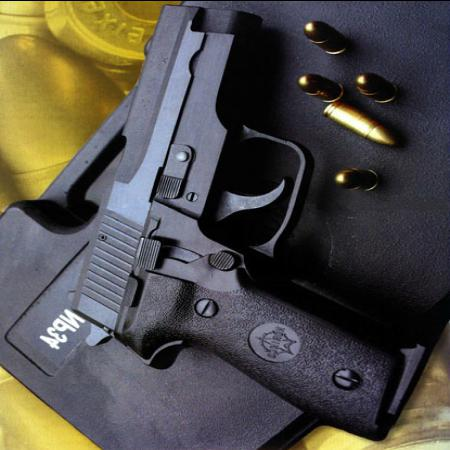Pistol: (64, 2, 420, 438)
